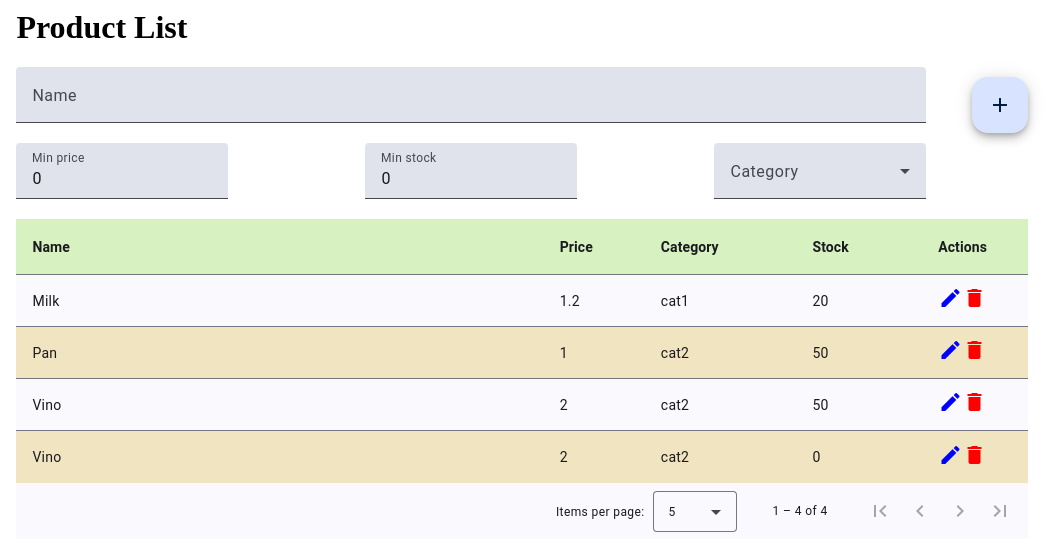
Test: template spec › Filter by name
Type "milk" into the search field with id "filter_name" at (471, 103), box [32,91,910,115]
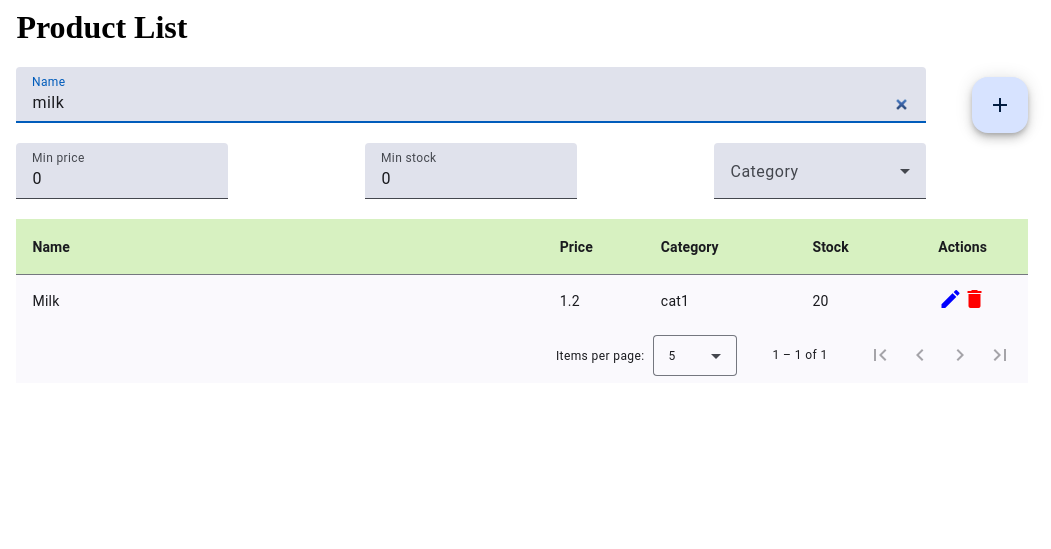
Expected: the text "Milk" is shown, [16,275,544,327]
Result: the text "Vino" is gone
